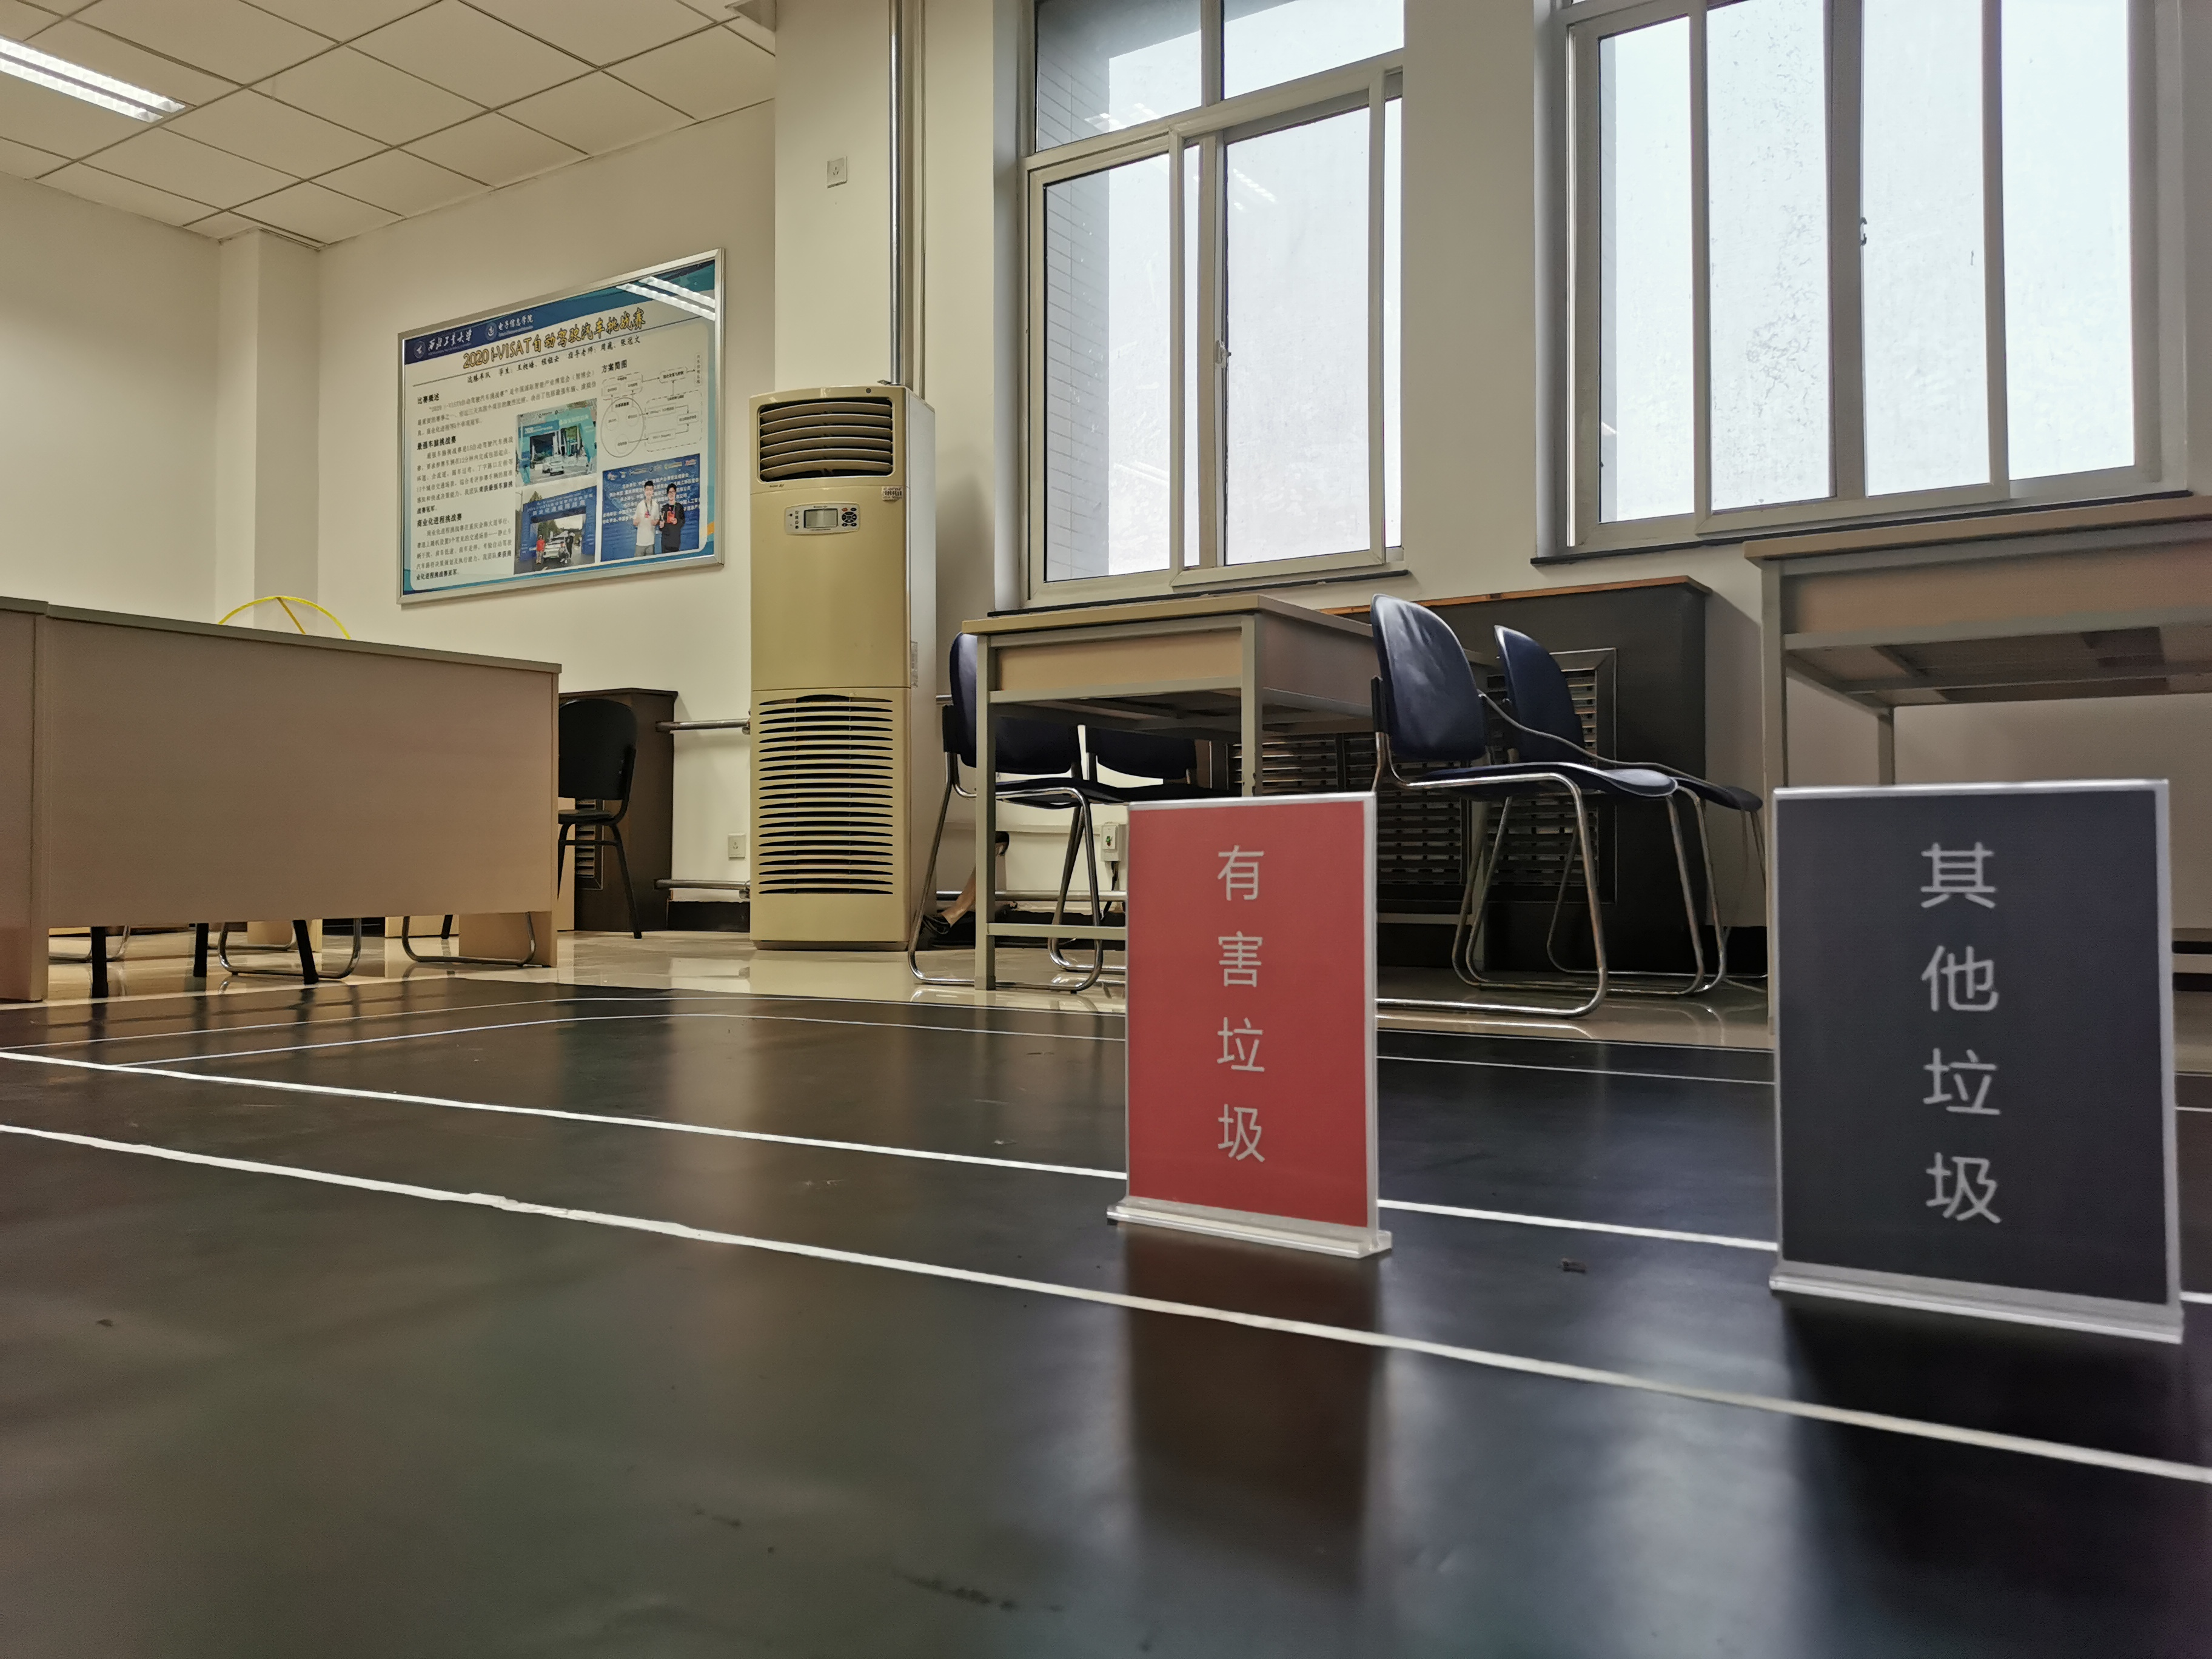black: (1791, 809, 2161, 1256)
red: (1132, 816, 1362, 1195)
